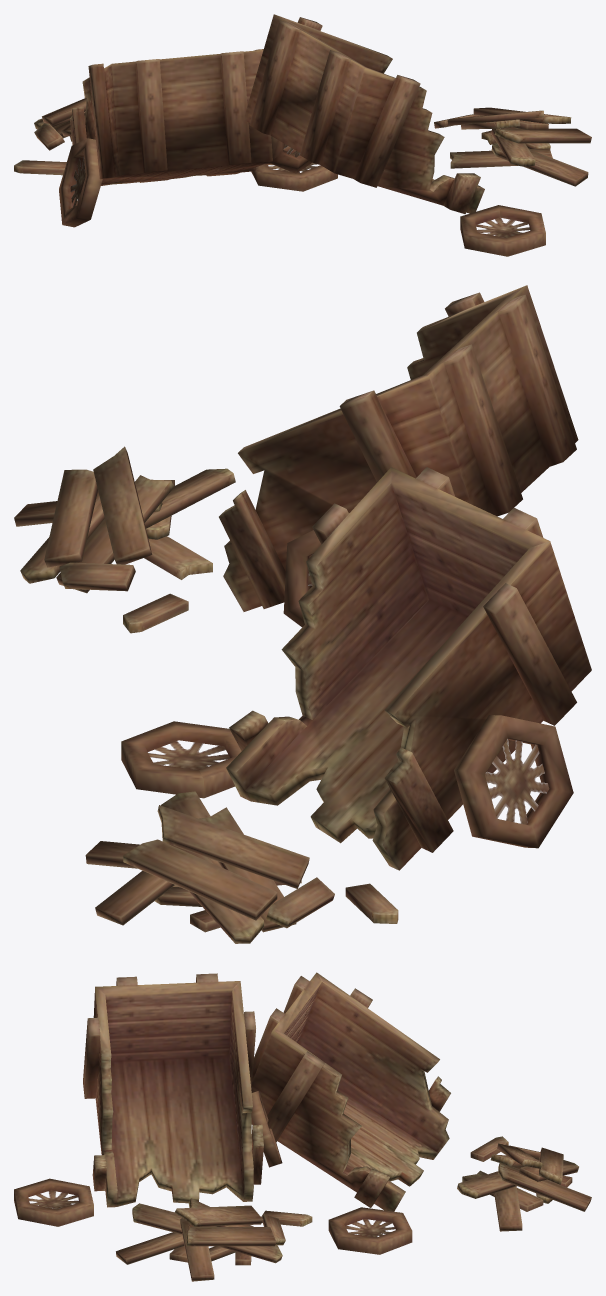
File: yanshi2_wujian1_1.fbx
The picture shows the model from 3 angles, top to bottom: view 1: azimuth 30°, elevation 25°; view 2: azimuth 150°, elevation 25°; view 3: azimuth 270°, elevation 25°; orthographic projection. The views are drawn at different scales.
Visible parts, largest first — view 1: yanshi2_wujian1_1; view 2: yanshi2_wujian1_1; view 3: yanshi2_wujian1_1.
Part boxes in pixels (x1,y1,x2,y2): yanshi2_wujian1_1: (14,14,591,256); yanshi2_wujian1_1: (14,285,591,943); yanshi2_wujian1_1: (14,972,591,1281).
Bounding box in the file's own units: 505 × 260 × 620.
